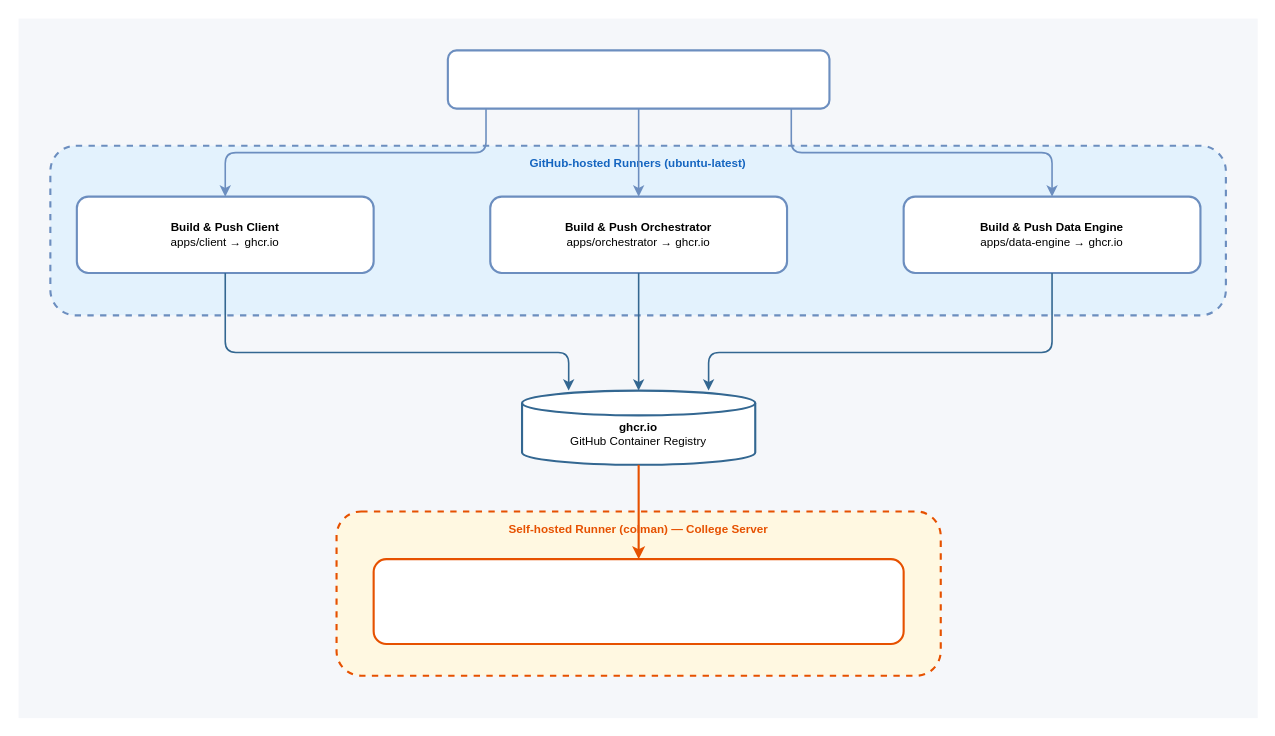
Image size: 1275x736. Some labels were removed from this diagram. Here are the shapes that lost their labels. From the top down, the centre of each, then its label:
(638,79): push to main / workflow_dispatch
(638,601): Deploy pull images → docker compose up -d → health-check (120 s) → image prune
